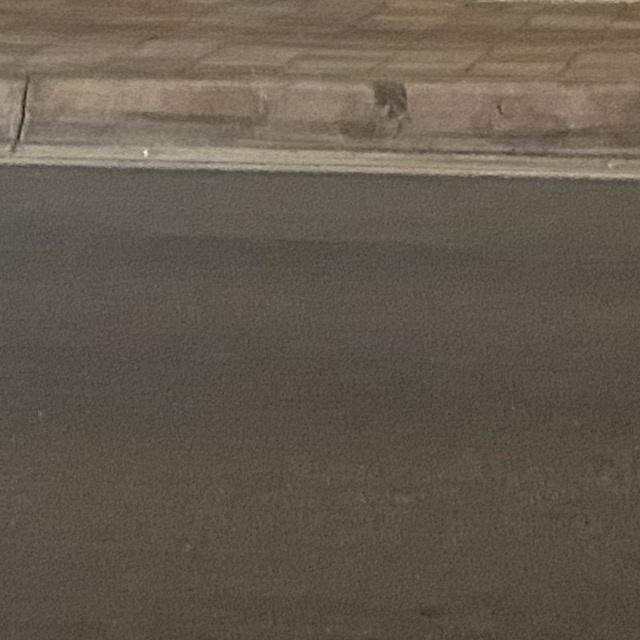curb: (0, 77, 639, 179)
